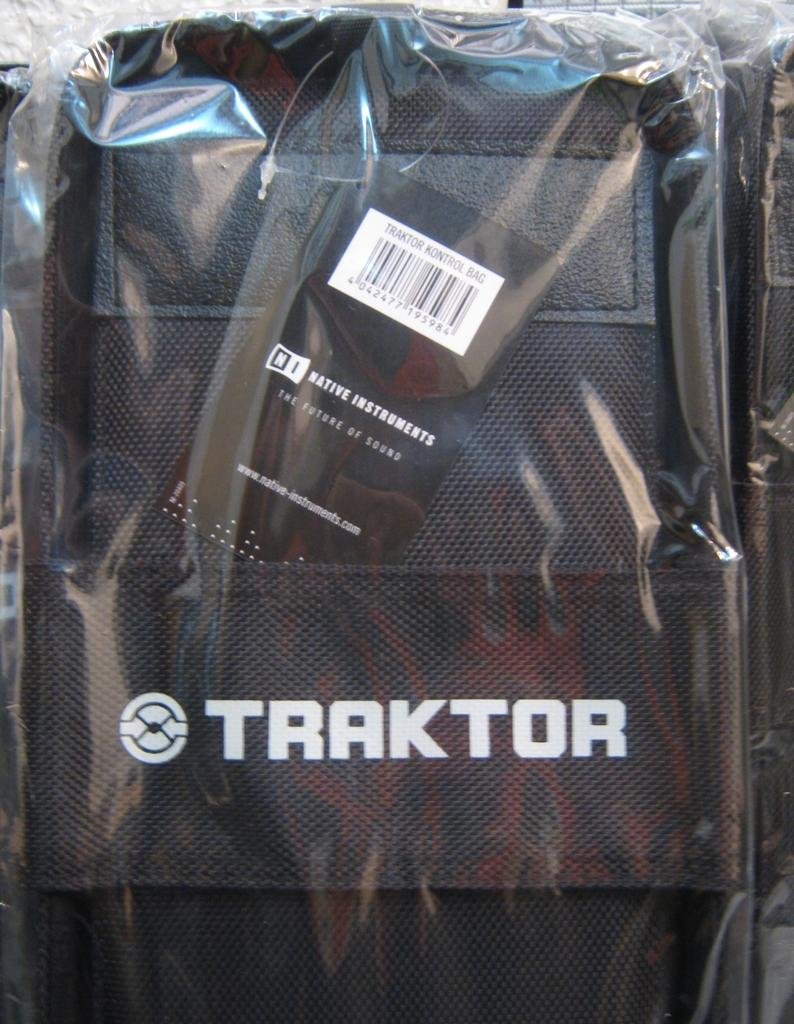Luggage-and-bags: (25, 0, 794, 920)
